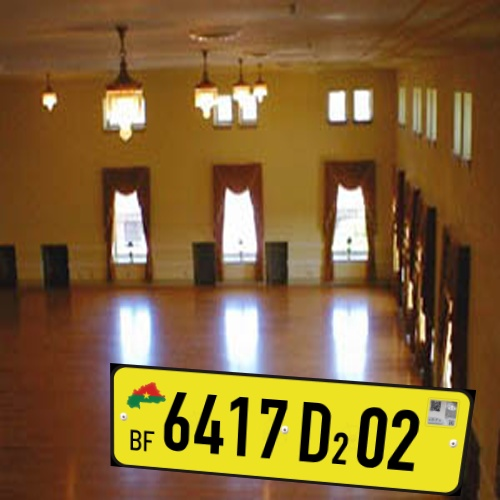plate: (88, 341, 487, 500)
